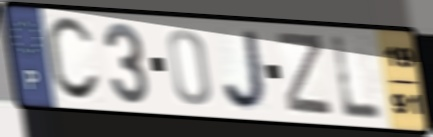0: (165, 26, 213, 108)
3: (102, 20, 151, 106)
C: (43, 14, 104, 106)
J: (220, 28, 273, 114)
L: (330, 34, 387, 122)
Z: (274, 29, 335, 119)
